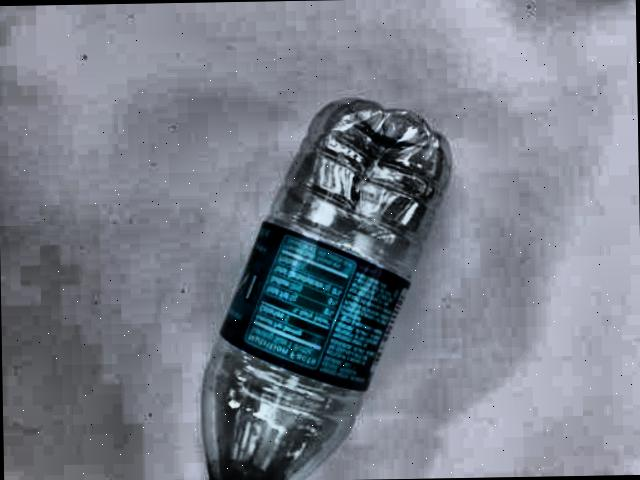Bottles: (151, 83, 458, 480)
